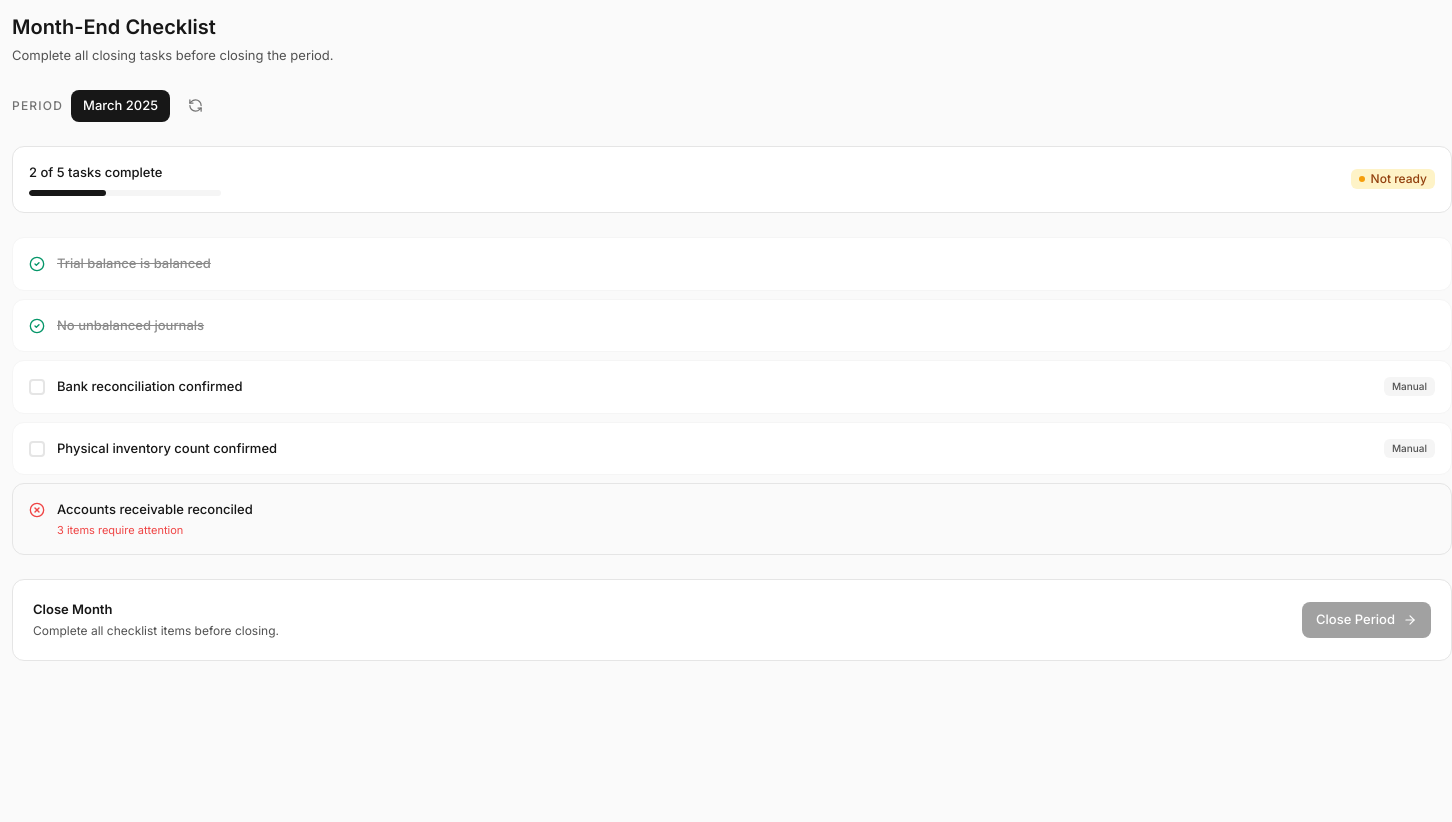
it: MonthEndChecklistPage › progress recomputes after successful manual toggle
Check: the text "2 of 5 tasks complete" is shown, box [29, 164, 162, 180]
Click the button named "toggle bank reconciliation confirmed" at (37, 387), box [29, 379, 45, 395]
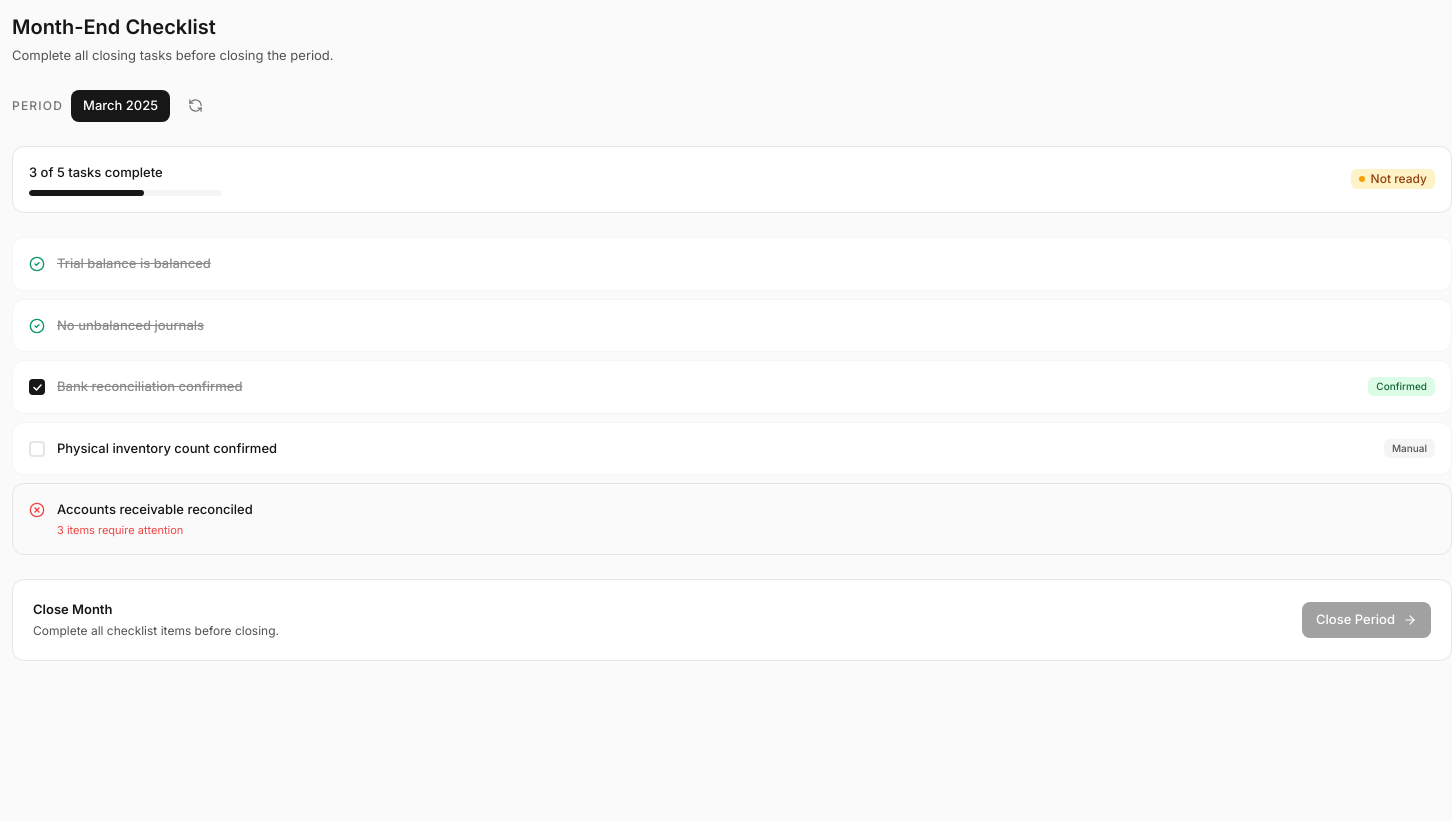
Check: the text "3 of 5 tasks complete" is shown, box [29, 164, 163, 180]
